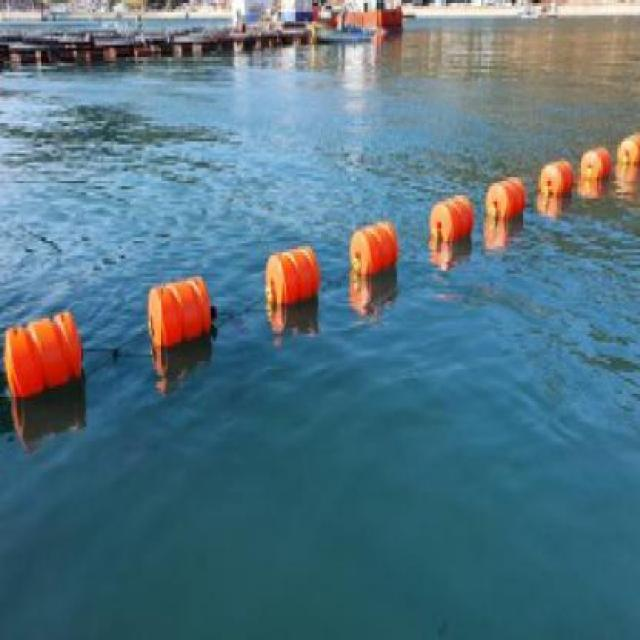a: (140, 262, 222, 368), (1, 301, 90, 398), (253, 226, 327, 338), (343, 209, 399, 304), (415, 184, 478, 260), (477, 175, 536, 250), (530, 154, 579, 202)
